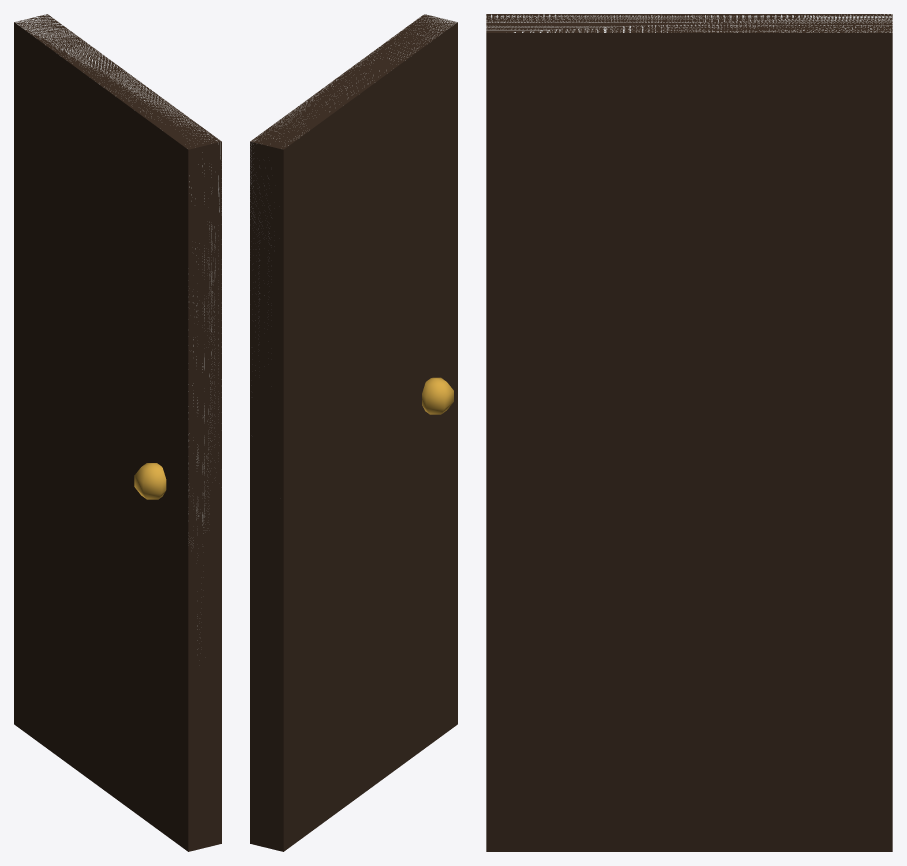
The model's file is booth-15-extra.glb.
3 renders of one model, left to right at view 1: azimuth 30°, elevation 25°; view 2: azimuth 150°, elevation 25°; view 3: azimuth 270°, elevation 25°, orthographic. The views are drawn at different scales.
Parts seen in each view (by area): view 1: 00_#3a2a1e_r320, solid, 01_#d8a840_r110; view 2: 00_#3a2a1e_r320, 01_#d8a840_r110, solid; view 3: 00_#3a2a1e_r320, solid.
Boxes of the visible parts, box(x1,y1,x2,y2) form: 00_#3a2a1e_r320: box(14, 14, 221, 851); solid: box(14, 14, 221, 649); 01_#d8a840_r110: box(134, 463, 166, 499); 00_#3a2a1e_r320: box(250, 14, 457, 851); 01_#d8a840_r110: box(422, 377, 453, 414); solid: box(250, 14, 457, 370); 00_#3a2a1e_r320: box(486, 14, 892, 851); solid: box(486, 14, 892, 32).
Bounding box in the file's own units: 0.1612 × 2 × 0.9.
